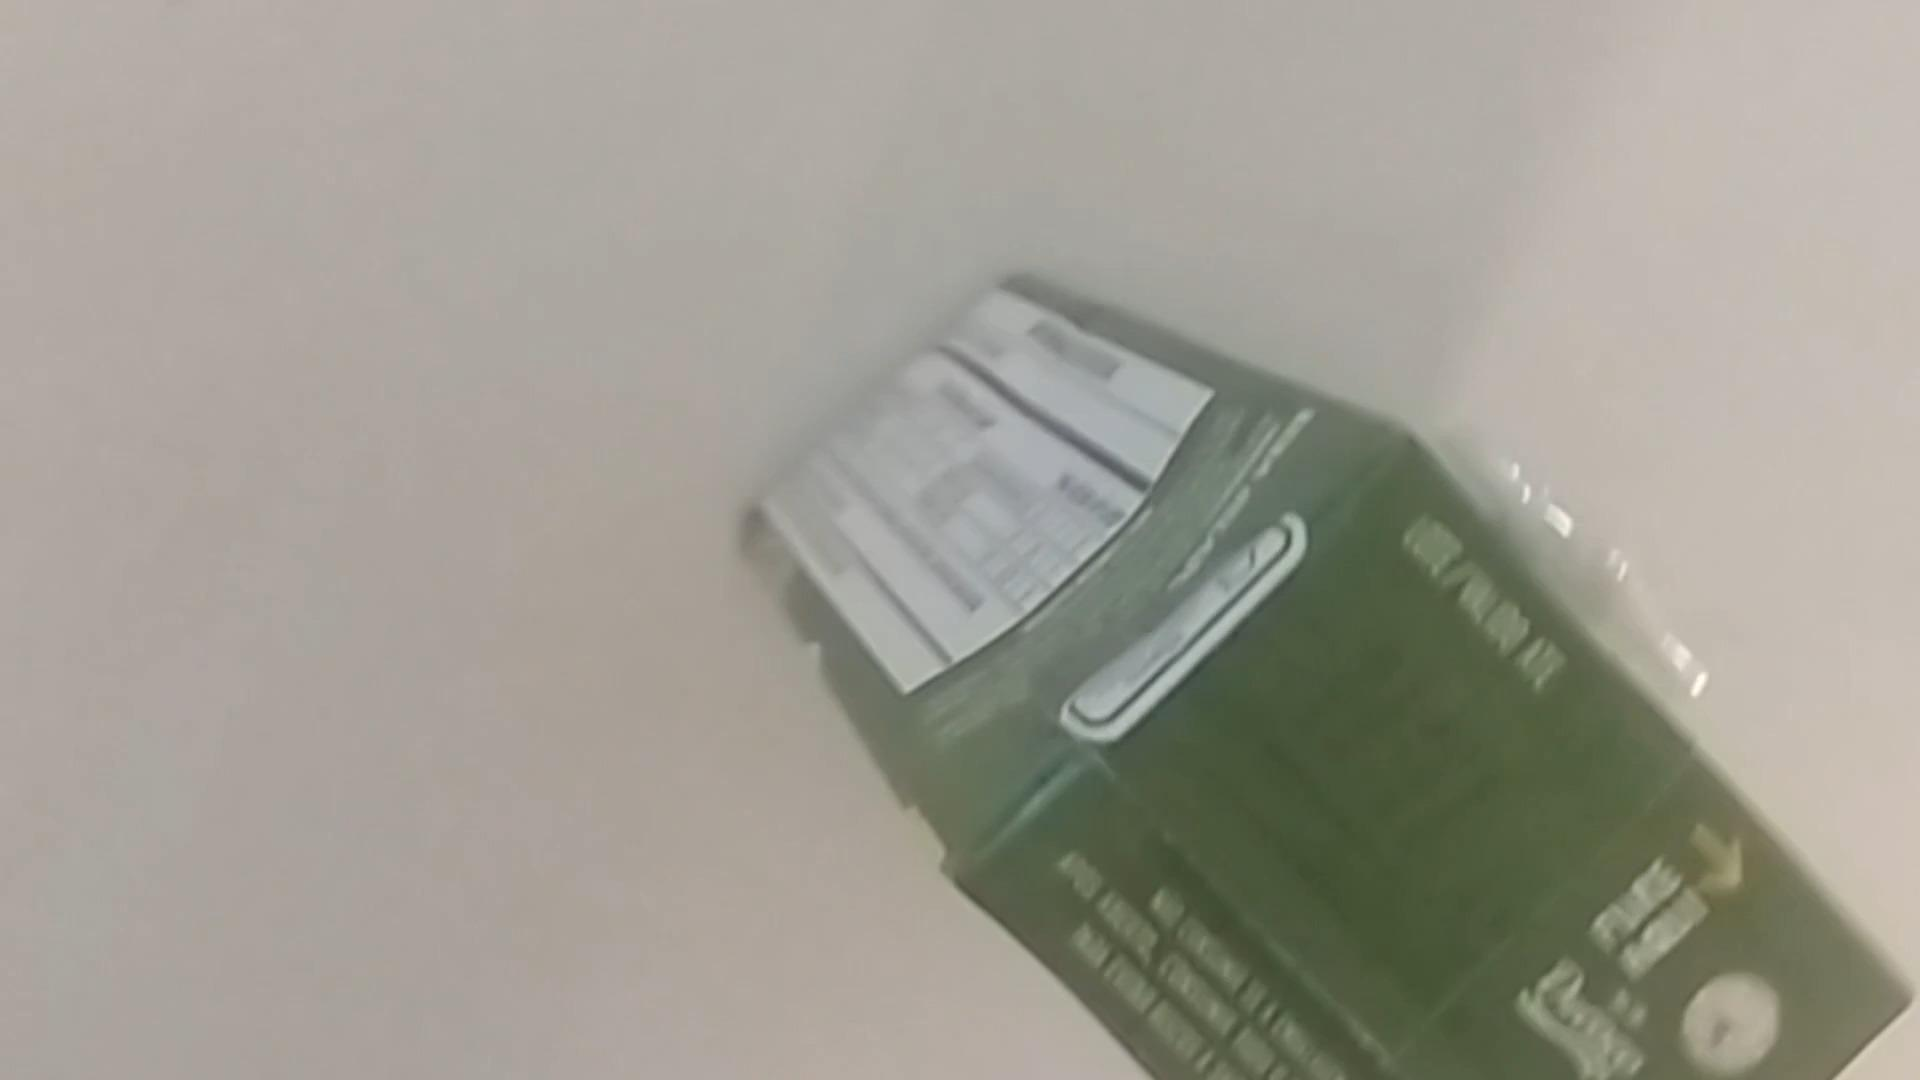coco: (735, 270, 1920, 1080)
